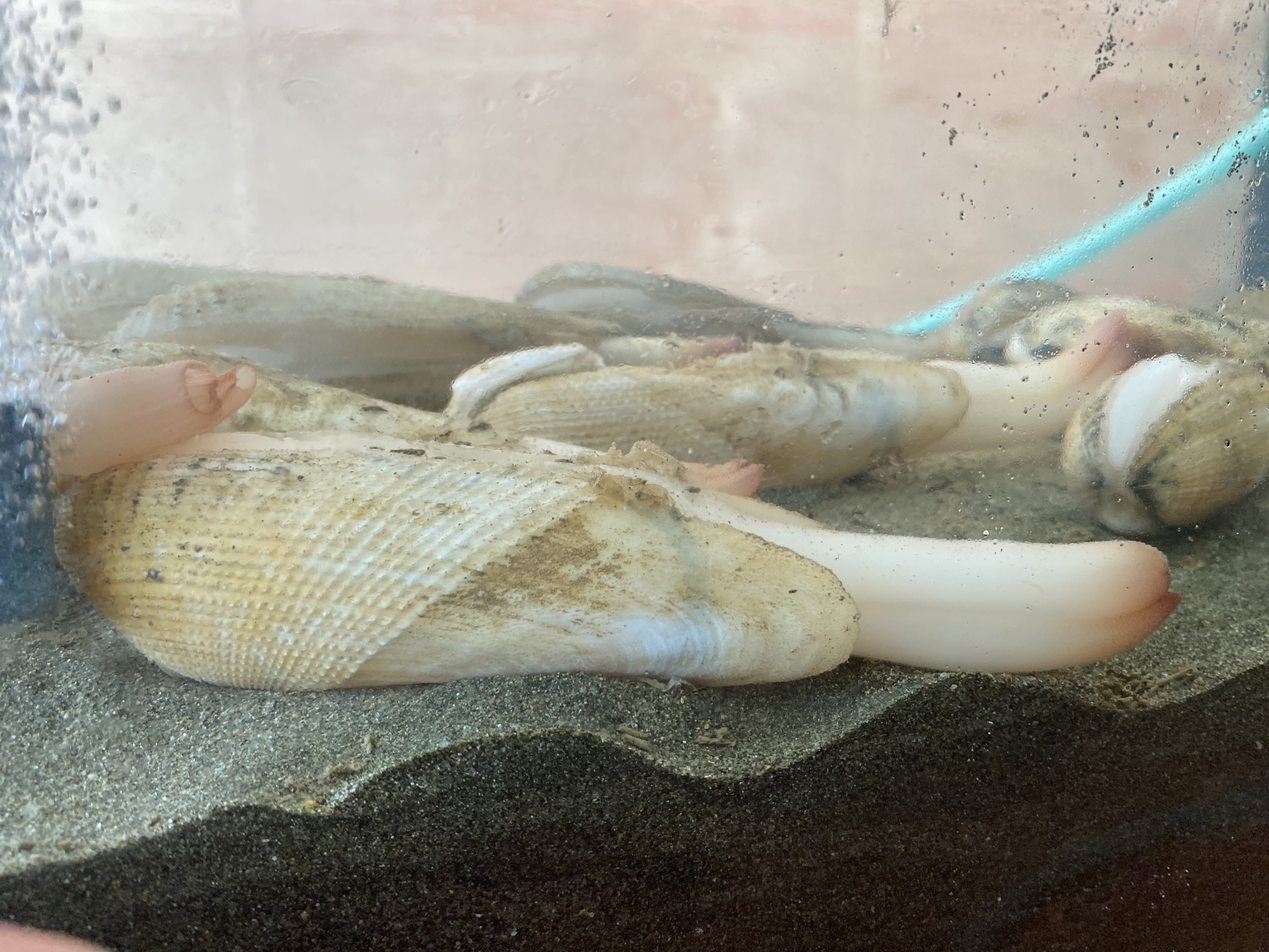Healthy: (56, 433, 1178, 690), (448, 314, 1129, 486), (55, 360, 256, 476)
